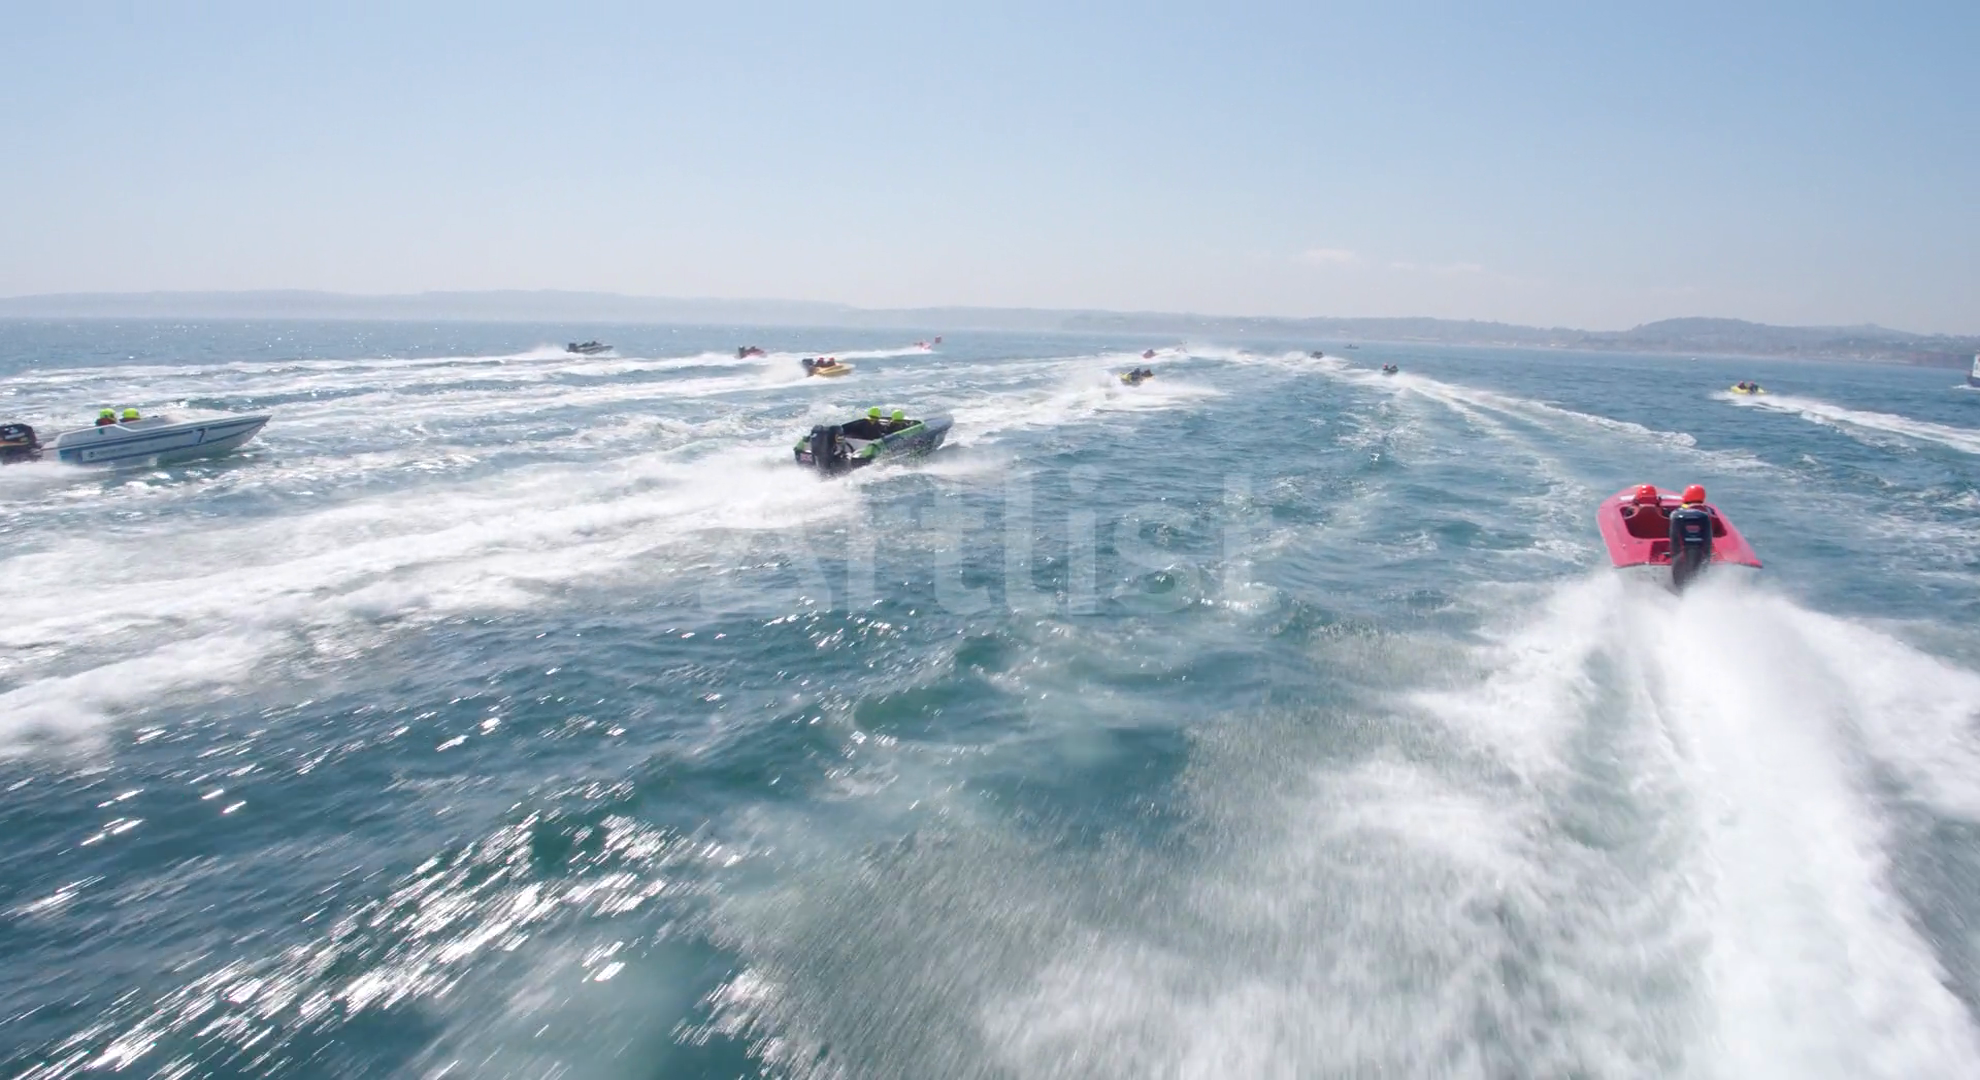boat: (44, 404, 290, 487), (1610, 470, 1766, 587), (757, 404, 967, 489), (1719, 378, 1771, 402), (802, 360, 840, 382), (915, 333, 949, 351), (1120, 367, 1148, 390), (1371, 364, 1402, 382), (561, 346, 605, 356), (738, 343, 763, 360)
